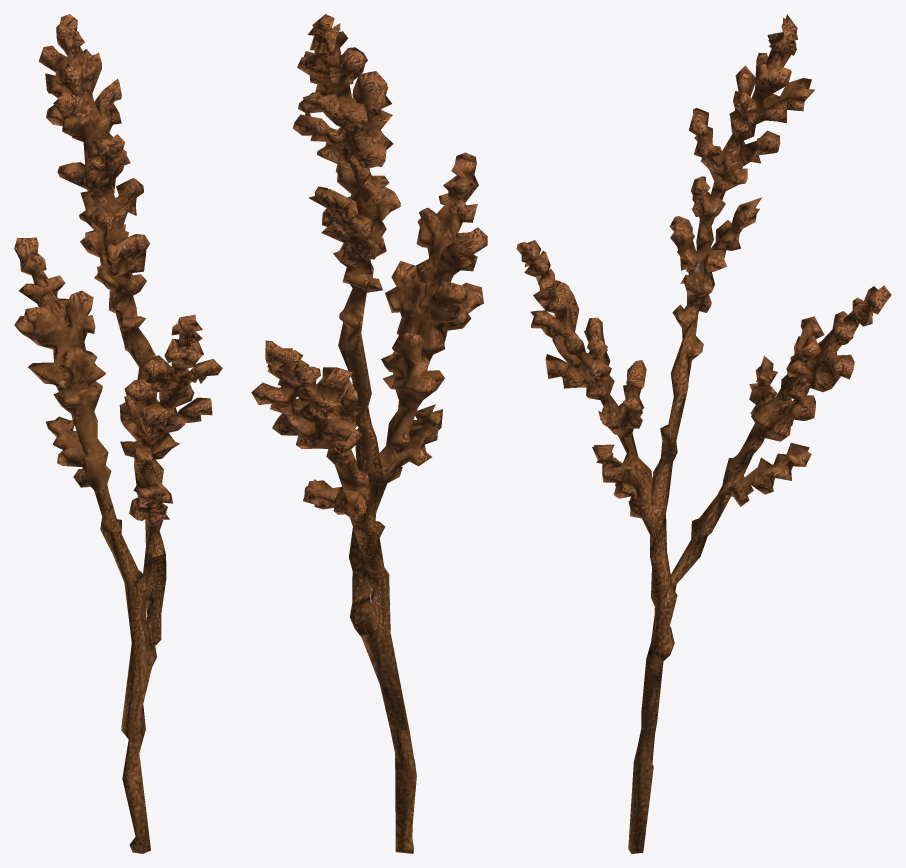
The model's file is DriedTwig.glb.
3 views of the same model, side by side, from view 1: azimuth 30°, elevation 25°; view 2: azimuth 150°, elevation 25°; view 3: azimuth 270°, elevation 25° (orthographic). The views are drawn at different scales.
Visible parts, largest first — view 1: tripo_node_1b645931-0f37-4451-9909-cb1b18b01983; view 2: tripo_node_1b645931-0f37-4451-9909-cb1b18b01983; view 3: tripo_node_1b645931-0f37-4451-9909-cb1b18b01983.
Part boxes in pixels (x1,y1,x2,y2): tripo_node_1b645931-0f37-4451-9909-cb1b18b01983: (14, 14, 222, 853); tripo_node_1b645931-0f37-4451-9909-cb1b18b01983: (251, 14, 487, 853); tripo_node_1b645931-0f37-4451-9909-cb1b18b01983: (516, 14, 891, 853).
Size of the model in its own units: 0.0963 by 0.9978 by 0.4072.
1 material, 1 textured.
